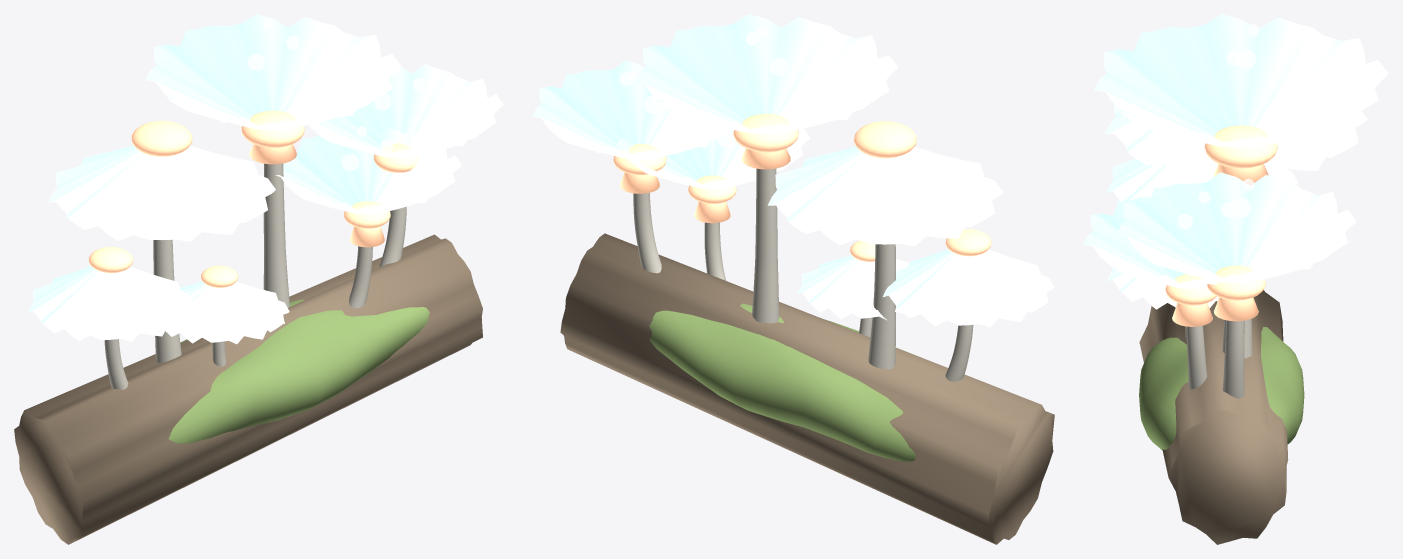
Rendered from plant-weather-mushroom.glb.
3 views of the same model, side by side, from view 1: azimuth 30°, elevation 25°; view 2: azimuth 150°, elevation 25°; view 3: azimuth 270°, elevation 25° (orthographic). The views are drawn at different scales.
Parts seen in each view (by area): view 1: Shroom_FallenLog, Shroom_Cap_3, Shroom_LogMoss, Shroom_Cap_1, Shroom_Cap_5, Shroom_Cap_4, Shroom_Cap_0, Shroom_Cap_2, Shroom_Stem_3, Shroom_CoralCrown_1, Shroom_CoralCrown_3, Shroom_Stem_1 (+9 smaller); view 2: Shroom_FallenLog, Shroom_Cap_3, Shroom_LogMoss, Shroom_Cap_1, Shroom_Cap_5, Shroom_Cap_0, Shroom_Cap_4, Shroom_Cap_2, Shroom_Stem_3, Shroom_Stem_1, Shroom_CoralCrown_1, Shroom_CoralCrown_3 (+9 smaller); view 3: Shroom_Cap_3, Shroom_FallenLog, Shroom_Cap_5, Shroom_LogMoss, Shroom_Cap_1, Shroom_Cap_4, Shroom_Cap_0, Shroom_CoralCrown_3, Shroom_Stem_5, Shroom_Cap_2, Shroom_CoralCrown_5, Shroom_Stem_4 (+5 smaller).
Boxes of the visible parts, x1=… form: Shroom_FallenLog: x1=14, y1=234, x2=482, y2=544; Shroom_Cap_3: x1=145, y1=14, x2=400, y2=130; Shroom_LogMoss: x1=168, y1=299, x2=429, y2=443; Shroom_Cap_1: x1=48, y1=145, x2=275, y2=241; Shroom_Cap_5: x1=309, y1=64, x2=503, y2=158; Shroom_Cap_4: x1=275, y1=128, x2=461, y2=214; Shroom_Cap_0: x1=27, y1=266, x2=194, y2=341; Shroom_Cap_2: x1=165, y1=281, x2=289, y2=344; Shroom_Stem_3: x1=263, y1=163, x2=289, y2=307; Shroom_CoralCrown_1: x1=131, y1=120, x2=192, y2=156; Shroom_CoralCrown_3: x1=241, y1=110, x2=304, y2=147; Shroom_Stem_1: x1=153, y1=239, x2=181, y2=362; Shroom_FallenLog: x1=560, y1=233, x2=1054, y2=544; Shroom_Cap_3: x1=634, y1=14, x2=898, y2=134; Shroom_LogMoss: x1=649, y1=303, x2=915, y2=461; Shroom_Cap_1: x1=767, y1=146, x2=1002, y2=246; Shroom_Cap_5: x1=532, y1=60, x2=730, y2=159; Shroom_Cap_0: x1=883, y1=249, x2=1054, y2=327; Shroom_Cap_4: x1=615, y1=126, x2=810, y2=189; Shroom_Cap_2: x1=797, y1=255, x2=909, y2=320; Shroom_Stem_3: x1=752, y1=168, x2=779, y2=323; Shroom_Stem_1: x1=868, y1=244, x2=895, y2=369; Shroom_CoralCrown_1: x1=854, y1=121, x2=916, y2=158; Shroom_CoralCrown_3: x1=733, y1=114, x2=798, y2=152; Shroom_Cap_3: x1=1094, y1=14, x2=1388, y2=148; Shroom_FallenLog: x1=1139, y1=290, x2=1288, y2=544; Shroom_Cap_5: x1=1116, y1=172, x2=1356, y2=283; Shroom_LogMoss: x1=1139, y1=327, x2=1304, y2=450; Shroom_Cap_1: x1=1105, y1=104, x2=1367, y2=178; Shroom_Cap_4: x1=1083, y1=197, x2=1270, y2=289; Shroom_Cap_0: x1=1106, y1=158, x2=1298, y2=201; Shroom_CoralCrown_3: x1=1204, y1=125, x2=1277, y2=168; Shroom_Stem_5: x1=1222, y1=320, x2=1244, y2=398; Shroom_Cap_2: x1=1107, y1=267, x2=1218, y2=309; Shroom_CoralCrown_5: x1=1207, y1=265, x2=1266, y2=300; Shroom_Stem_4: x1=1186, y1=325, x2=1207, y2=389.
Size of the model in its own units: 2.55 by 2.37 by 1.26.
